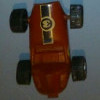carro: (14, 3, 84, 96)
